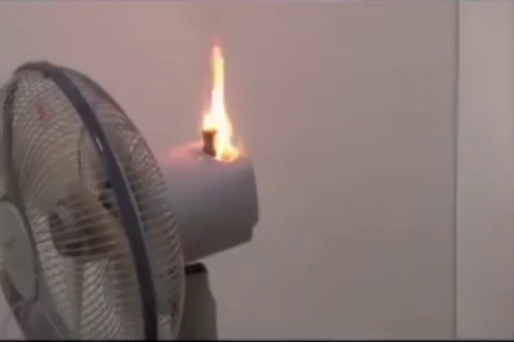fire: (196, 41, 250, 165)
